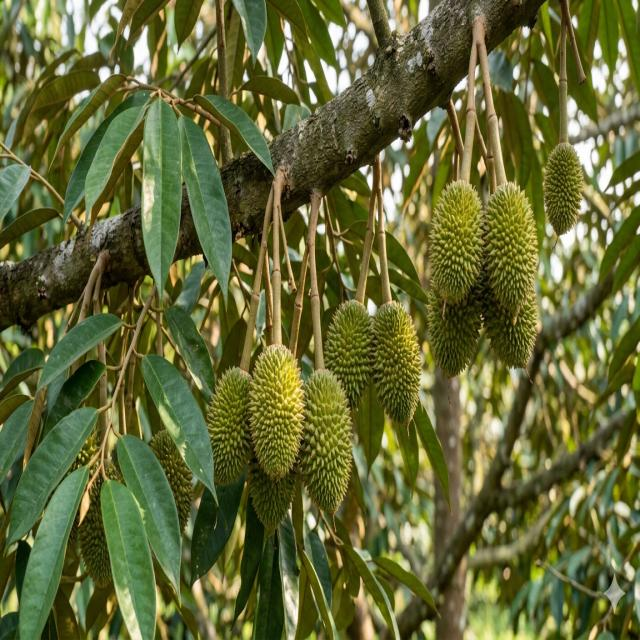immature: (480, 179, 540, 321), (246, 343, 306, 480), (298, 368, 352, 514), (428, 179, 486, 307), (76, 454, 126, 584), (370, 300, 422, 424), (206, 365, 255, 484), (427, 285, 483, 385), (148, 428, 196, 537), (324, 296, 372, 404), (543, 141, 585, 239)
